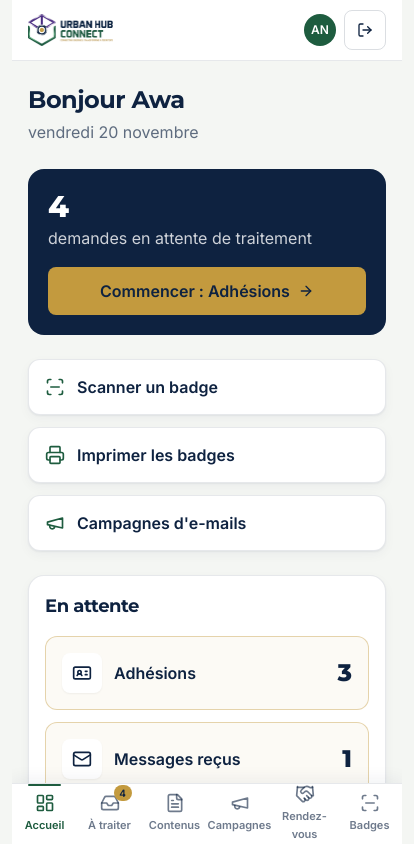
Test: Espace Coordination : navigation › propose les mêmes sections dans la barre du bas sur téléphone
This screenshot has width=414, height=844.
Click the button "Contenus" at (174, 814), box [142,784,207,843]
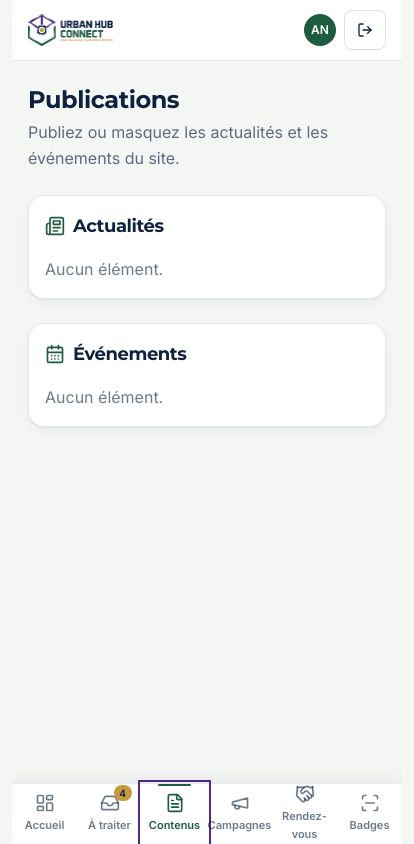
Check: the heading "Publications" is shown, box [28,85,179,114]
